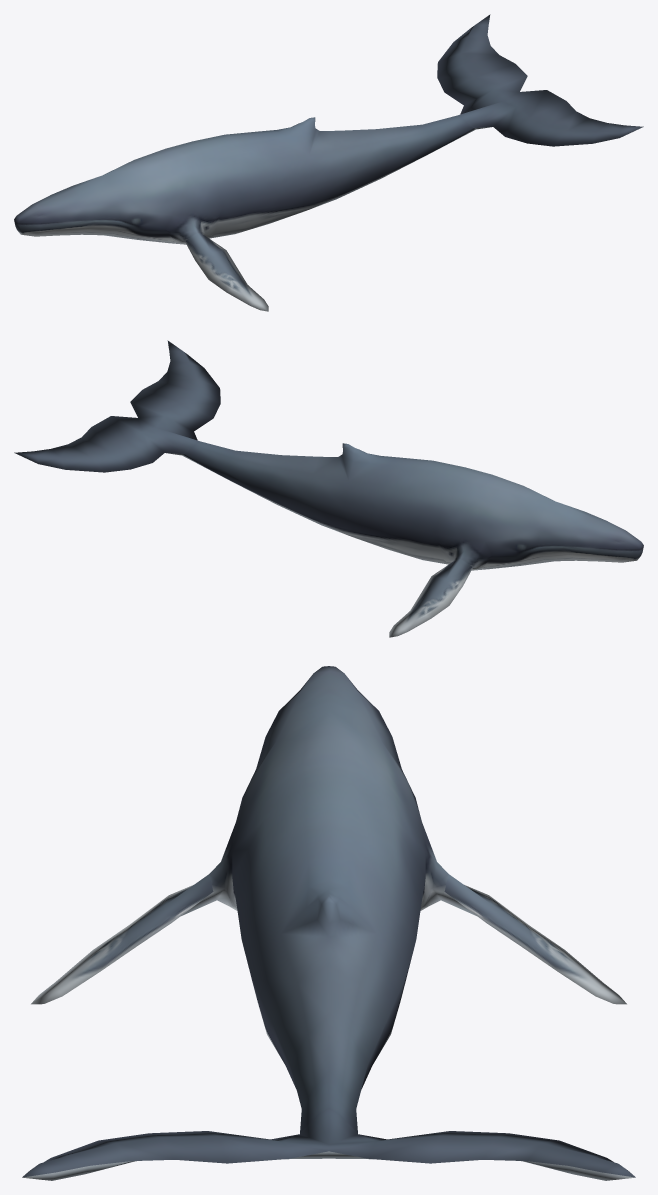
File: f26_zuotoujing.FBX
3 views of the same model, one above another, from view 1: azimuth 30°, elevation 25°; view 2: azimuth 150°, elevation 25°; view 3: azimuth 270°, elevation 25° (orthographic). The views are drawn at different scales.
Parts seen in each view (by area): view 1: f26_zuotoujing; view 2: f26_zuotoujing; view 3: f26_zuotoujing.
Part boxes in pixels (x1,y1,x2,y2): f26_zuotoujing: [14, 14, 643, 311]; f26_zuotoujing: [14, 340, 643, 637]; f26_zuotoujing: [22, 666, 635, 1180].
Size of the model in its own units: 490 by 95.11 by 236.
1 material, 1 textured.
